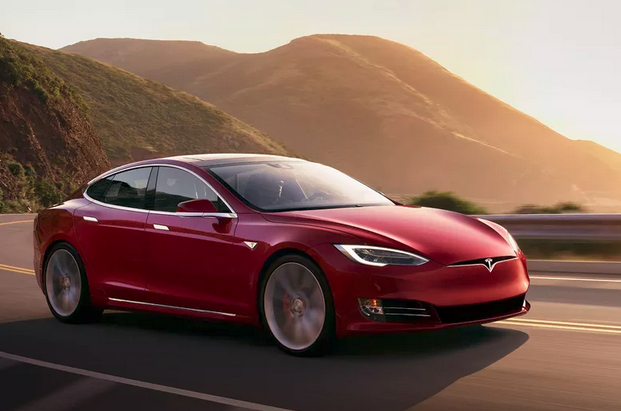car: (25, 150, 539, 354)
